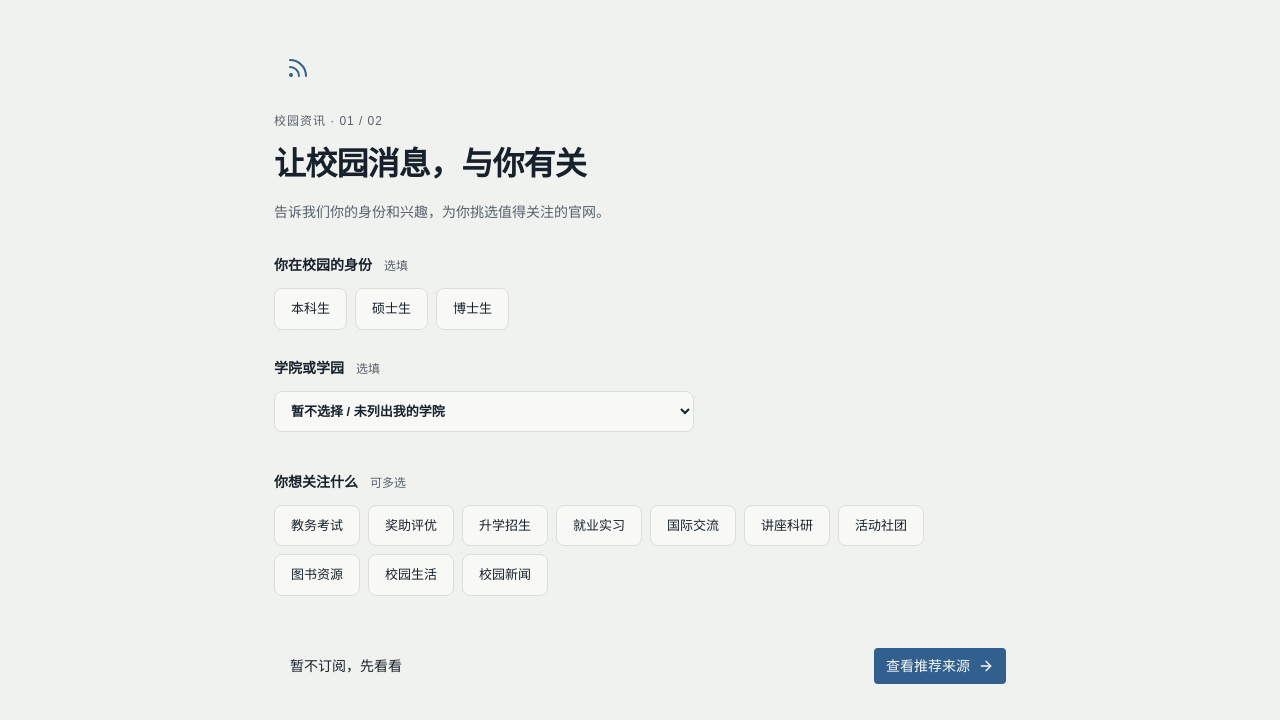
campus feed first-visit choices › selects the matching college without rendering internal recommendation explanations
Click the button "硕士生".
click(392, 309)  # box [355,288,428,330]
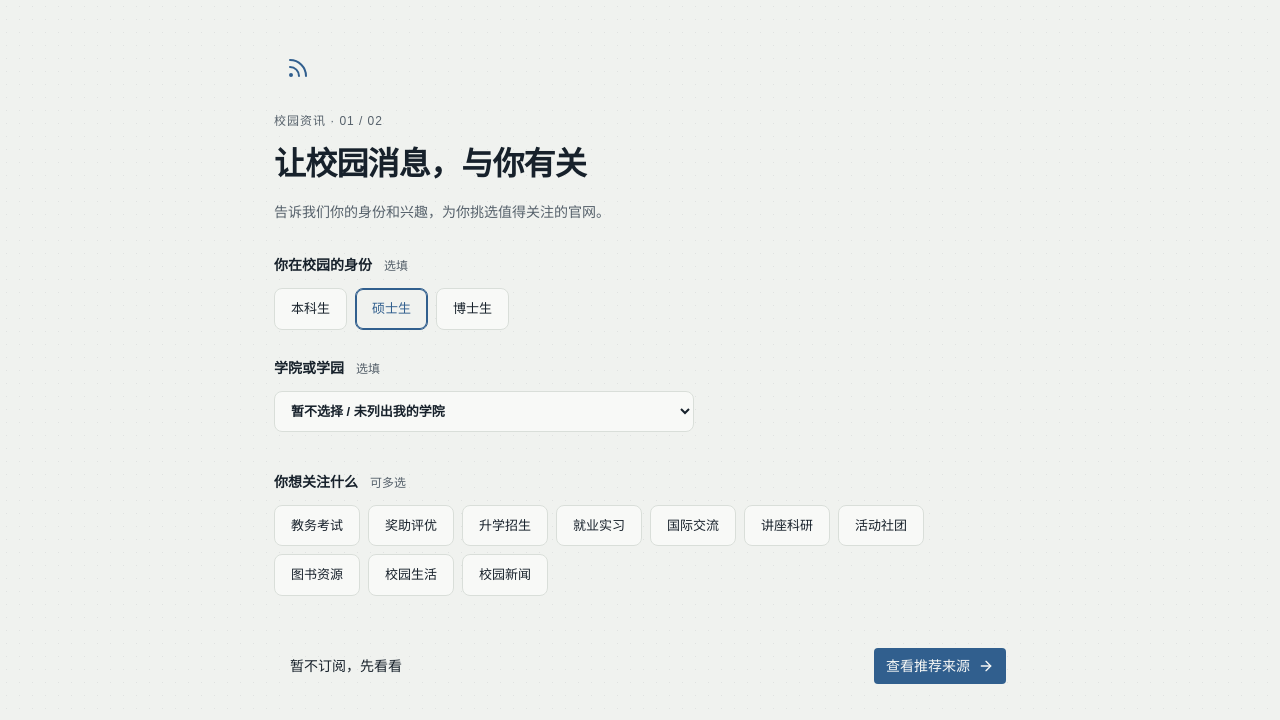
Select "历史学院" in the dropdown labelled "学院或学园 选填" at {"x": 484, "y": 411}, box [274,391,694,432]
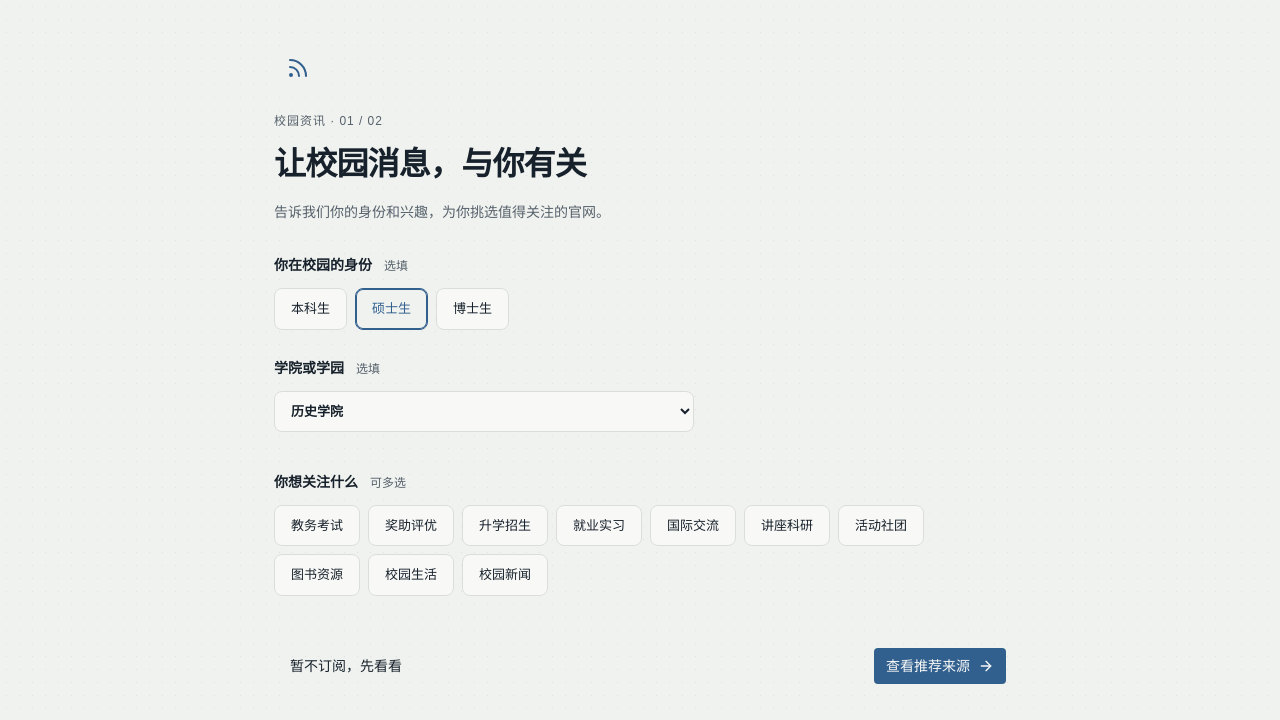
Click the button "查看推荐来源".
click(940, 666)  # box [874,648,1006,684]
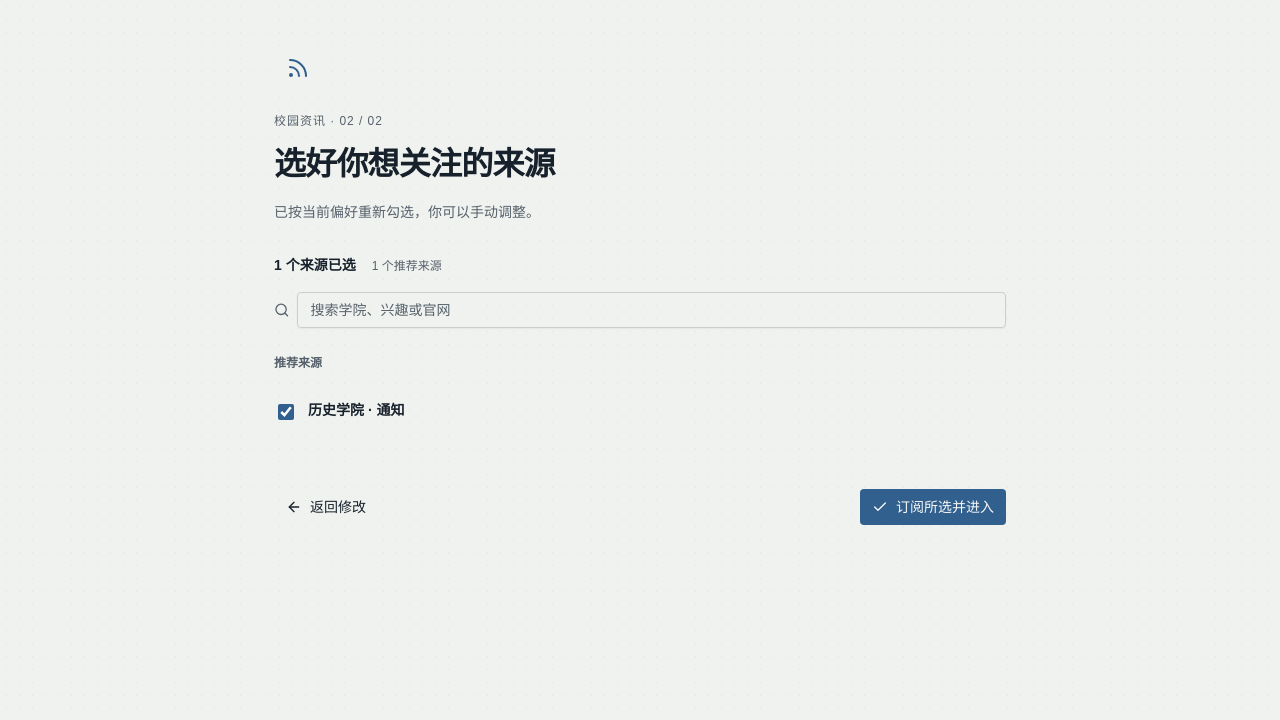
Expected: the checkbox is checked, [278,404,294,420]
